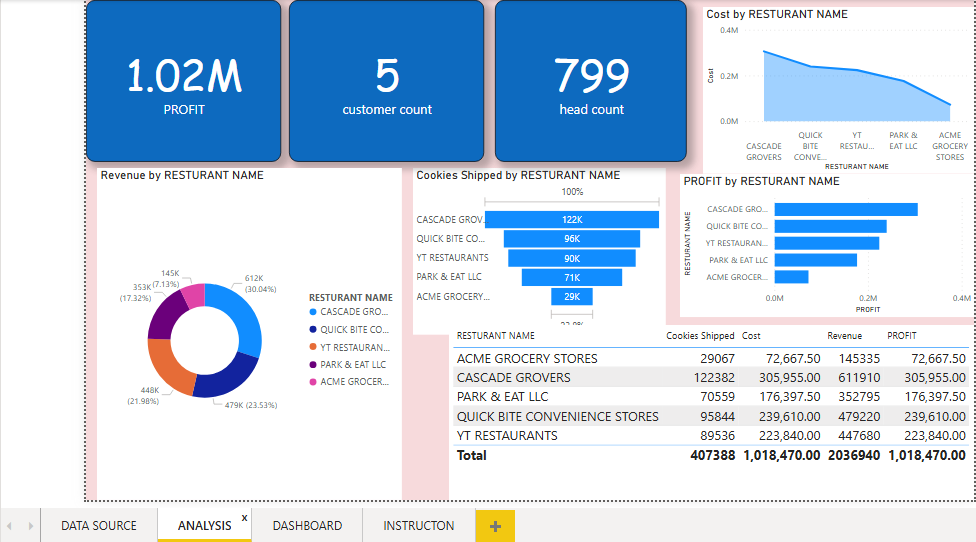

The page's visual inventory and layout, read from the dashboard file:
{"tool":"powerbi","page":{"name":"ANALYSIS","canvas":[1280,720],"ordinal":1},"visuals":[{"type":"clusteredBarChart","fields":{"Category":["Order_Data.RESTURANT NAME"],"Y":["Sum(Order_Data.PROFIT)"]},"box":[855.4,250.6,424.8,205.9],"z":0},{"type":"funnel","fields":{"Category":["Order_Data.RESTURANT NAME"],"Y":["Sum(Order_Data.Cookies Shipped)"]},"box":[470.9,241.9,364.3,240.5],"z":1000},{"type":"areaChart","fields":{"Category":["Order_Data.RESTURANT NAME"],"Y":["Sum(Order_Data.Cost)"]},"box":[888.5,10.1,391.7,240.5],"z":2000},{"type":"tableEx","fields":{"Values":["Order_Data.RESTURANT NAME","Sum(Order_Data.Cookies Shipped)","Sum(Order_Data.Cost)","Sum(Order_Data.Revenue)","Sum(Order_Data.PROFIT)"]},"box":[522.7,468,757.4,252],"z":3000},{"type":"card","fields":{"Values":["Sum(Order_Data.PROFIT)"]},"box":[0,0,280.5,233.5],"z":4000},{"type":"card","fields":{"Values":["Order_Data.customer count"]},"box":[292.3,0,280.5,233.5],"z":5000},{"type":"card","fields":{"Values":["Order_Data.head count"]},"box":[589,0,276.5,233.3],"z":6000},{"type":"donutChart","fields":{"Category":["Order_Data.RESTURANT NAME"],"Y":["Sum(Order_Data.Revenue)"]},"box":[15.8,241.9,439.2,478.1],"z":7000}]}

Visuals, with their boxes on the page's 1280x720 design canvas (x1, y1, x2, y2). These are canvas units, not pixel positions in the 976x542 screenshot, which may show the page scaled, cropped or inside an application window:
clusteredBarChart - Order_Data.RESTURANT NAME x Sum(Order_Data.PROFIT): [855,251,1280,456]
funnel - Order_Data.RESTURANT NAME x Sum(Order_Data.Cookies Shipped): [471,242,835,482]
areaChart - Order_Data.RESTURANT NAME x Sum(Order_Data.Cost): [888,10,1280,251]
tableEx - Order_Data.RESTURANT NAME x Sum(Order_Data.Cookies Shipped): [523,468,1280,720]
card - Sum(Order_Data.PROFIT): [0,0,280,234]
card - Order_Data.customer count: [292,0,573,234]
card - Order_Data.head count: [589,0,866,233]
donutChart - Order_Data.RESTURANT NAME x Sum(Order_Data.Revenue): [16,242,455,720]
